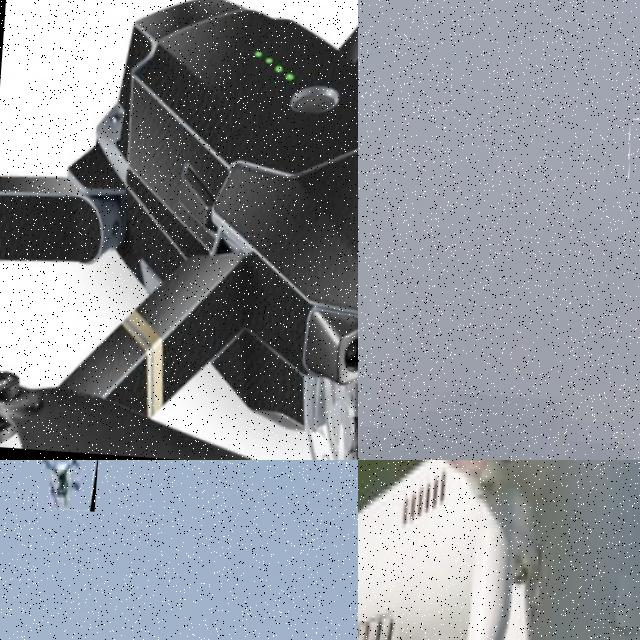drone: (0, 0, 358, 460), (358, 460, 640, 640), (34, 460, 98, 511)
